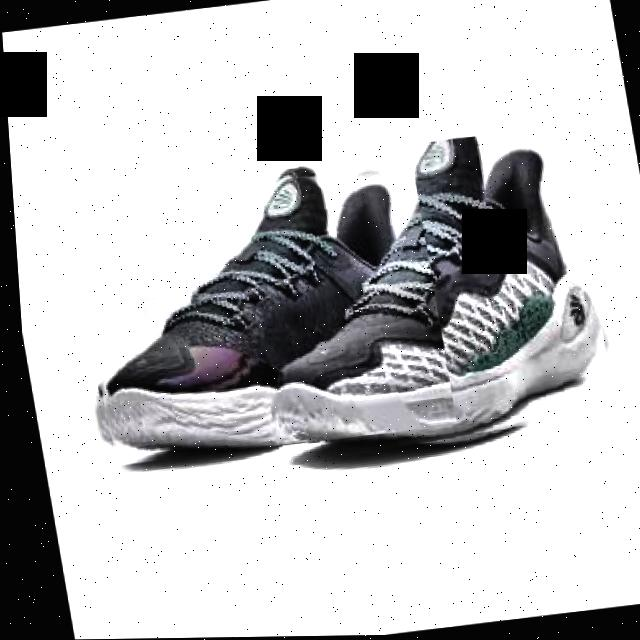shoe: (225, 126, 619, 469), (55, 159, 453, 467)
